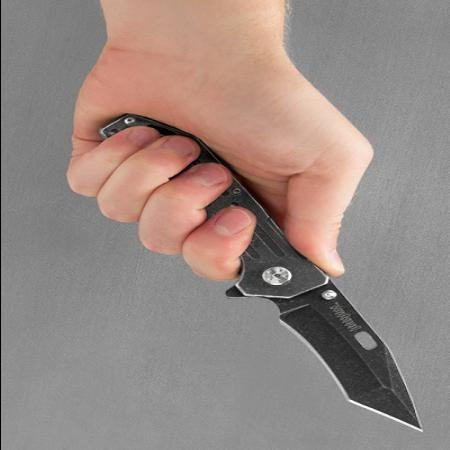long weapon: (162, 162, 432, 439)
